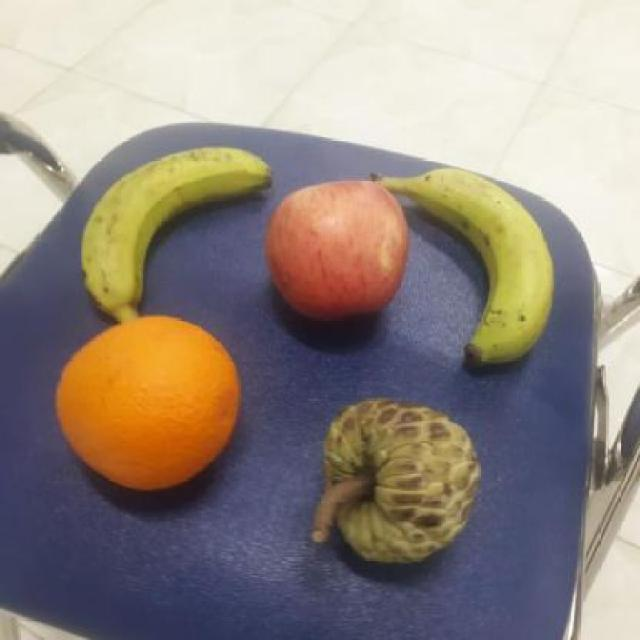apple: (264, 178, 408, 318)
banana: (78, 147, 272, 311), (408, 166, 554, 366)
oren: (54, 316, 238, 492)
sugar apple: (322, 394, 478, 564)
